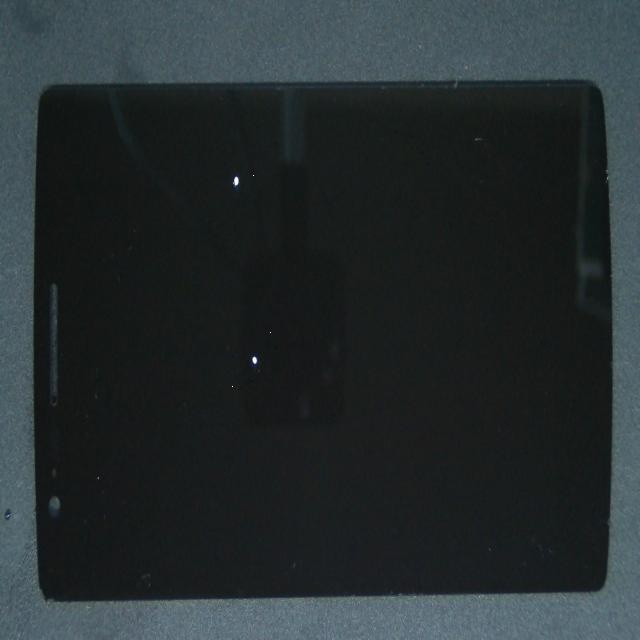stain: (98, 171, 363, 583), (106, 81, 337, 298)
